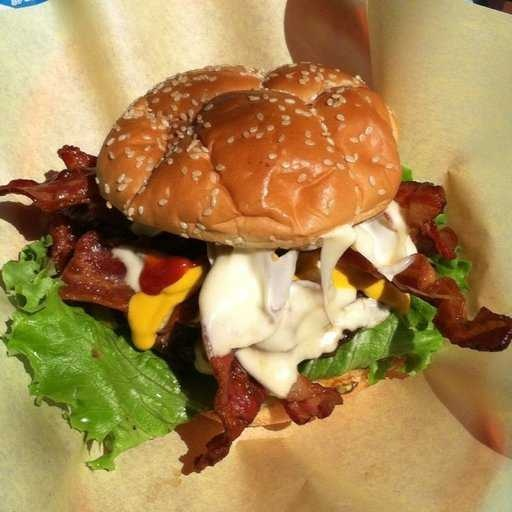hamburger: (69, 30, 438, 431)
